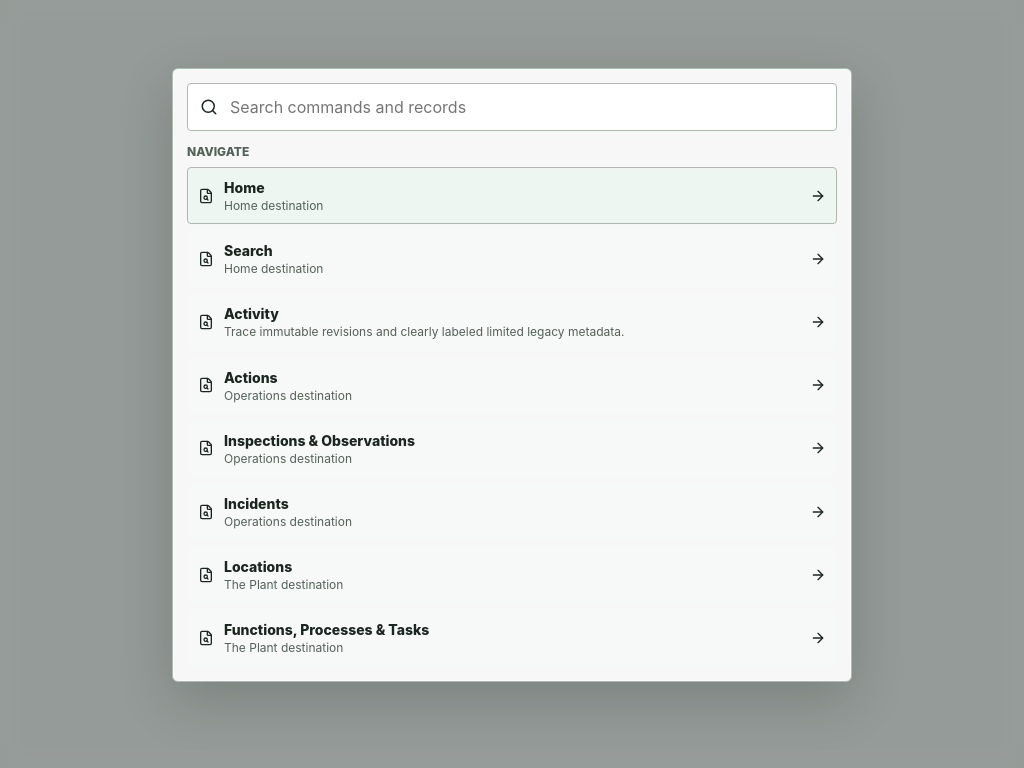
CommandPalette › adds read-only record results from global search
The width and height of the screenshot is (1024, 768).
Type "egress" into the field labelled "Search commands and records" at (526, 107), box [228,94,824,120]
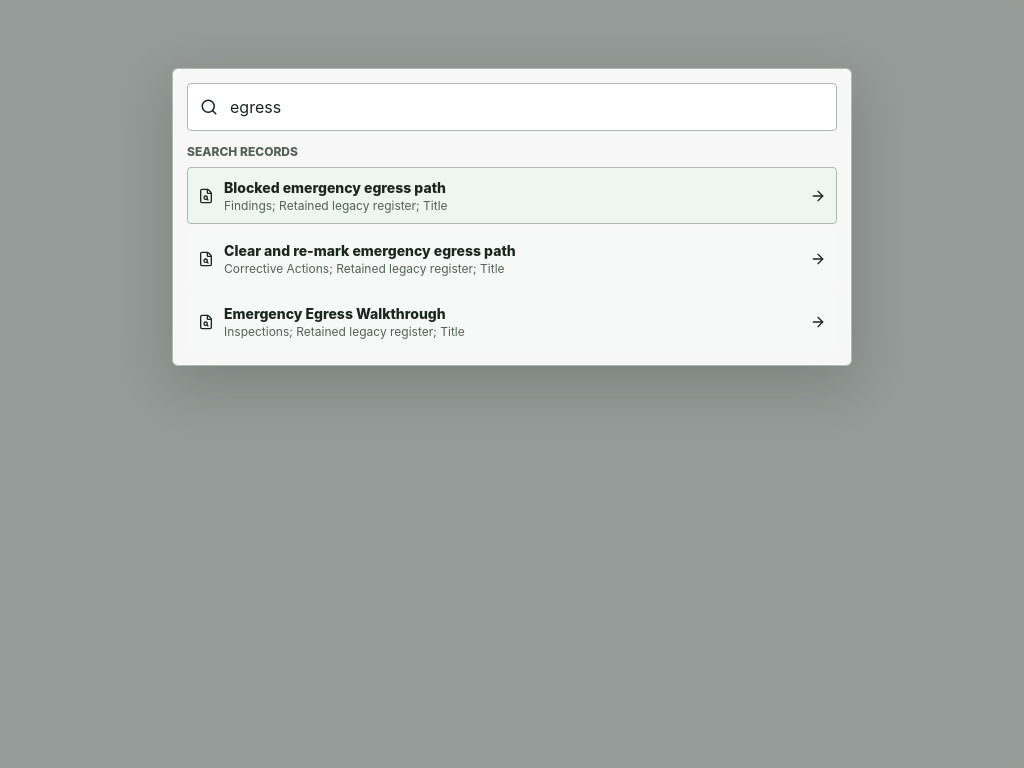
expect the button "Blocked emergency egress path" is shown: met, box [187,167,837,224]
